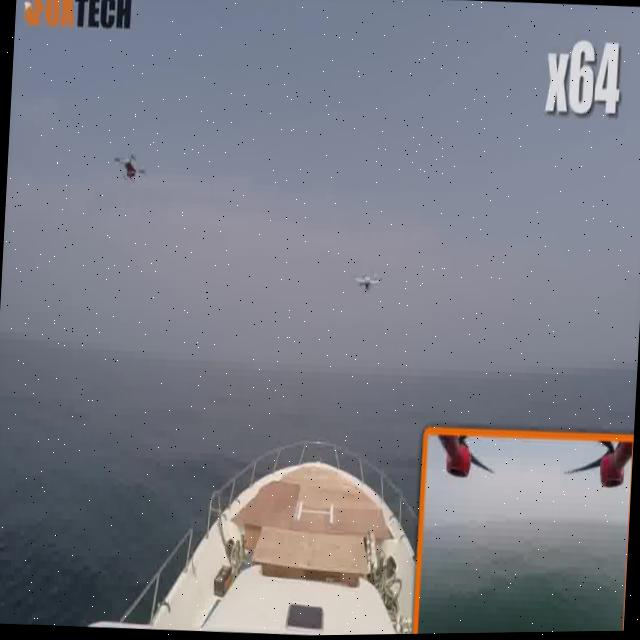drone: (101, 130, 148, 187), (341, 254, 389, 300)
